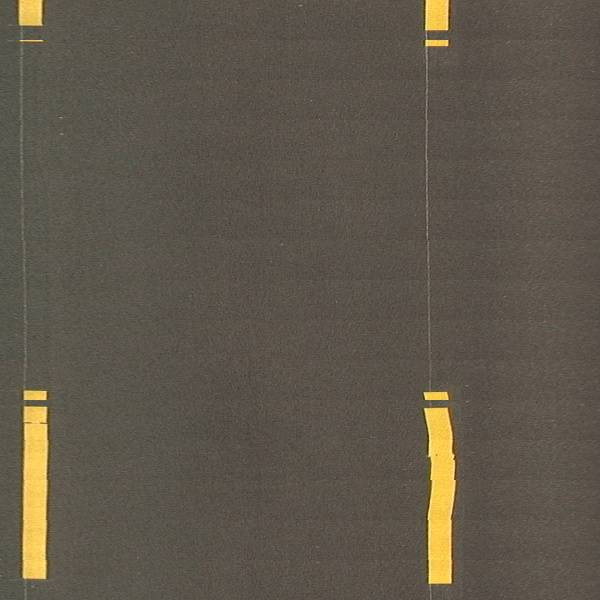road_damage: (223, 350, 283, 597)
